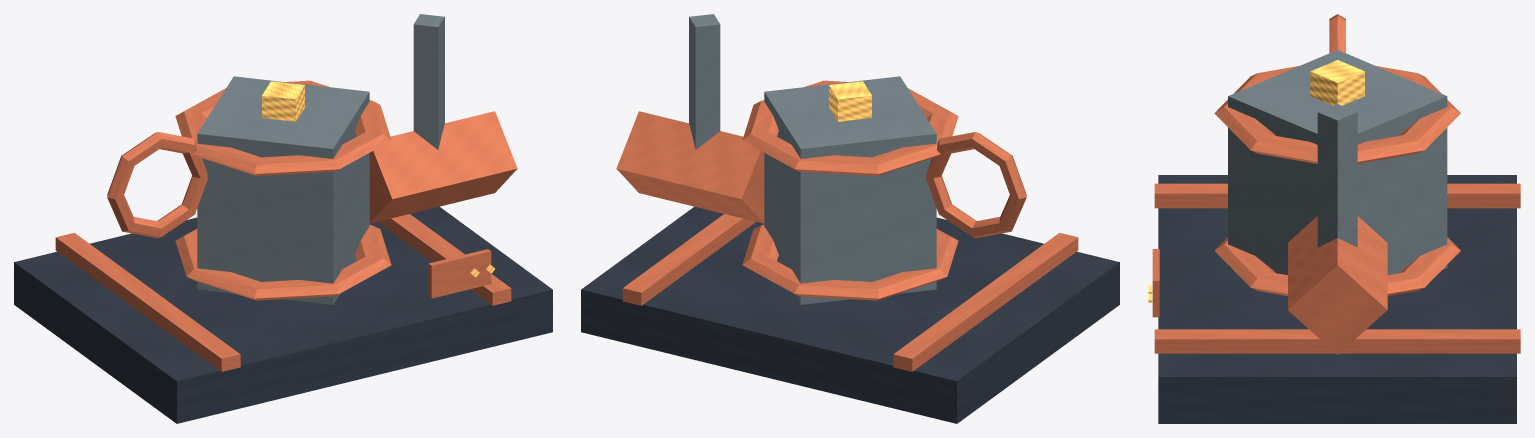
The model's file is atlas100-s030-a01.lod1.glb.
3 renders of one model, left to right at view 1: azimuth 30°, elevation 25°; view 2: azimuth 150°, elevation 25°; view 3: azimuth 270°, elevation 25°, orthographic. The views are drawn at different scales.
Visible parts, largest first — view 1: atlas100-s030-a01:part-000, atlas100-s030-a01:part-003, atlas100-s030-a01:part-007, atlas100-s030-a01:part-001, atlas100-s030-a01:part-005, atlas100-s030-a01:part-004, atlas100-s030-a01:part-009, atlas100-s030-a01:part-008, atlas100-s030-a01:part-002, atlas100-s030-a01:part-010, atlas100-s030-a01:part-006; view 2: atlas100-s030-a01:part-000, atlas100-s030-a01:part-003, atlas100-s030-a01:part-007, atlas100-s030-a01:part-001, atlas100-s030-a01:part-005, atlas100-s030-a01:part-004, atlas100-s030-a01:part-009, atlas100-s030-a01:part-008, atlas100-s030-a01:part-002, atlas100-s030-a01:part-006; view 3: atlas100-s030-a01:part-000, atlas100-s030-a01:part-003, atlas100-s030-a01:part-007, atlas100-s030-a01:part-002, atlas100-s030-a01:part-005, atlas100-s030-a01:part-008, atlas100-s030-a01:part-001, atlas100-s030-a01:part-004, atlas100-s030-a01:part-006, atlas100-s030-a01:part-009, atlas100-s030-a01:part-010.
Boxes of the visible parts, bbox=[...] form: atlas100-s030-a01:part-000: bbox=[14, 206, 552, 423]; atlas100-s030-a01:part-003: bbox=[197, 76, 369, 304]; atlas100-s030-a01:part-007: bbox=[369, 111, 517, 223]; atlas100-s030-a01:part-001: bbox=[55, 232, 240, 371]; atlas100-s030-a01:part-005: bbox=[175, 80, 391, 175]; atlas100-s030-a01:part-004: bbox=[175, 224, 391, 300]; atlas100-s030-a01:part-009: bbox=[107, 132, 207, 238]; atlas100-s030-a01:part-008: bbox=[413, 14, 444, 149]; atlas100-s030-a01:part-002: bbox=[378, 214, 511, 305]; atlas100-s030-a01:part-010: bbox=[428, 249, 491, 298]; atlas100-s030-a01:part-006: bbox=[262, 81, 304, 121]; atlas100-s030-a01:part-000: bbox=[581, 206, 1119, 423]; atlas100-s030-a01:part-003: bbox=[764, 76, 936, 304]; atlas100-s030-a01:part-007: bbox=[616, 111, 764, 223]; atlas100-s030-a01:part-001: bbox=[893, 232, 1078, 371]; atlas100-s030-a01:part-005: bbox=[742, 80, 958, 175]; atlas100-s030-a01:part-004: bbox=[742, 224, 958, 300]; atlas100-s030-a01:part-009: bbox=[926, 132, 1026, 238]; atlas100-s030-a01:part-008: bbox=[689, 14, 720, 149]; atlas100-s030-a01:part-002: bbox=[622, 214, 755, 305]; atlas100-s030-a01:part-006: bbox=[829, 81, 871, 121]; atlas100-s030-a01:part-000: bbox=[1158, 175, 1516, 423]; atlas100-s030-a01:part-003: bbox=[1228, 50, 1447, 275]; atlas100-s030-a01:part-007: bbox=[1288, 216, 1387, 355]; atlas100-s030-a01:part-002: bbox=[1154, 329, 1520, 353]; atlas100-s030-a01:part-005: bbox=[1214, 65, 1460, 163]; atlas100-s030-a01:part-008: bbox=[1317, 104, 1357, 247]; atlas100-s030-a01:part-001: bbox=[1154, 183, 1520, 208]; atlas100-s030-a01:part-004: bbox=[1214, 237, 1460, 295]; atlas100-s030-a01:part-006: bbox=[1310, 60, 1364, 105]; atlas100-s030-a01:part-009: bbox=[1329, 14, 1345, 53]; atlas100-s030-a01:part-010: bbox=[1152, 249, 1159, 317].
Bounding box in the file's own units: 2.55 × 1.6 × 1.87.
Materials: 4 (4 with a texture image).
